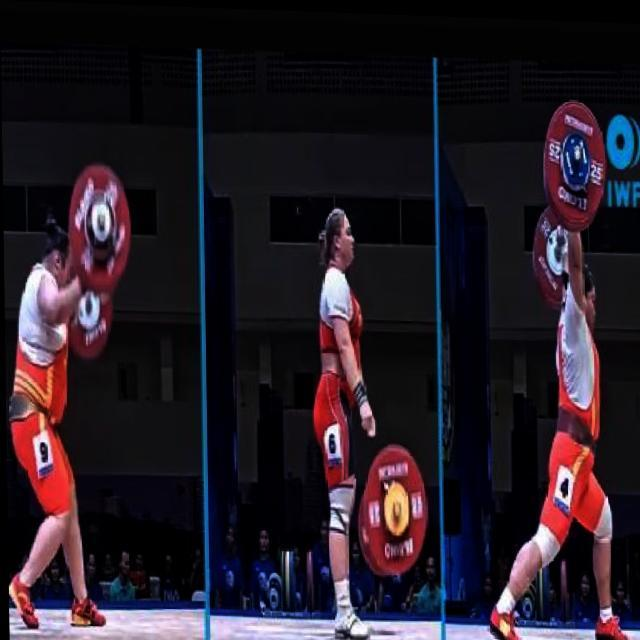barbell: (353, 432, 431, 577), (540, 88, 613, 232), (65, 156, 135, 293)
